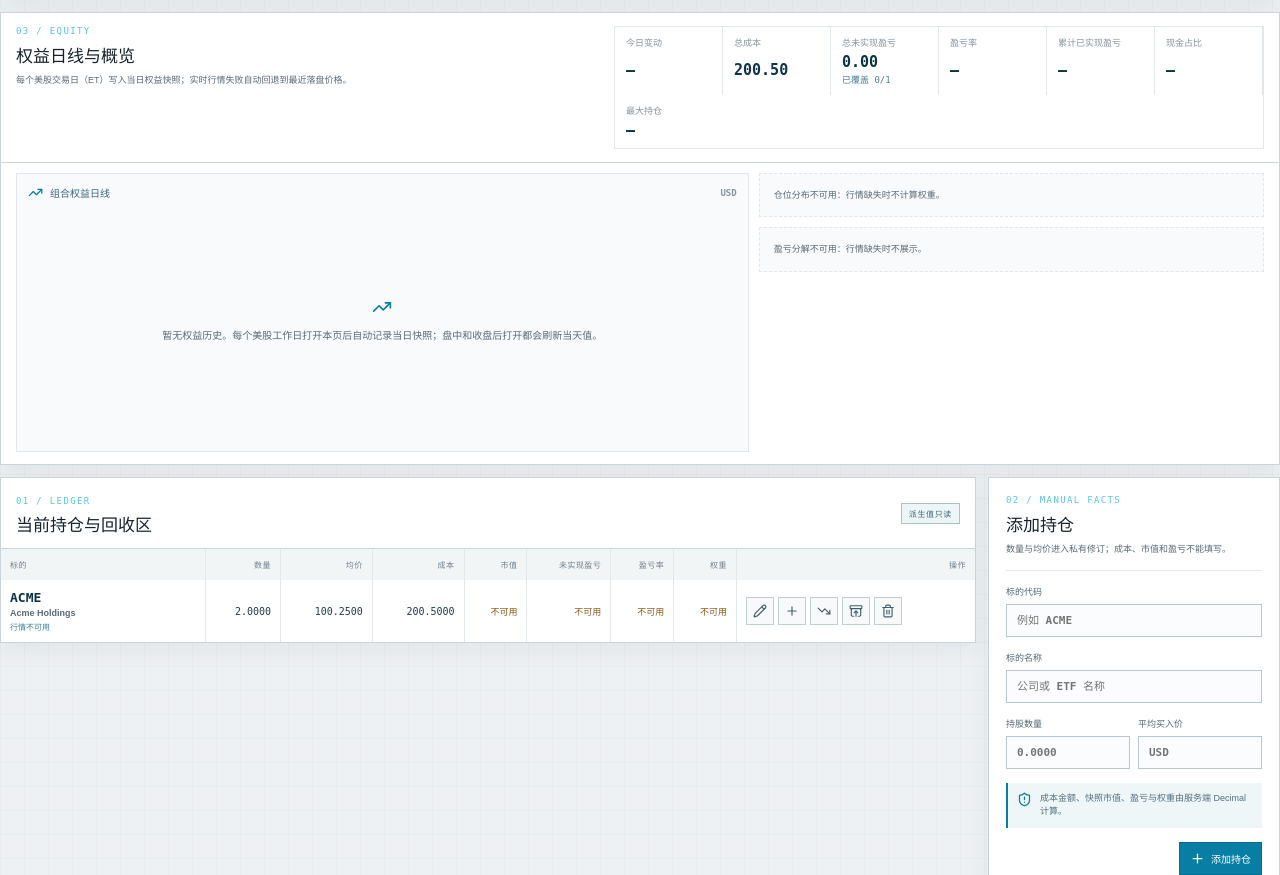
手工美股持仓工作台 › 行情不可用显示明确缺值，移出可恢复，永久删除必须二次 challenge
(page scrolled)
Click the button named "移出 ACME". click: click(856, 611)
box: [842, 597, 870, 625]
(page scrolled)
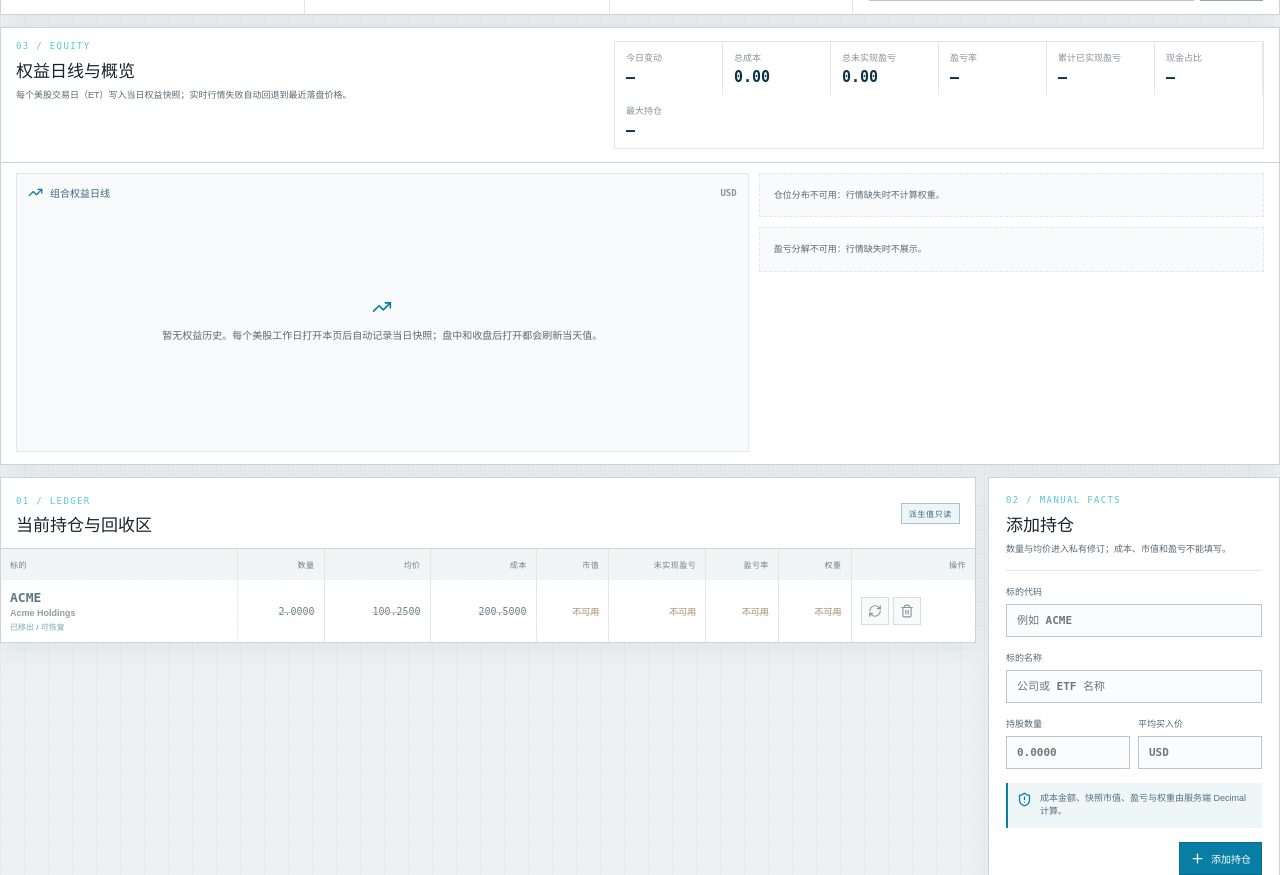
Now the button named "恢复 ACME" is shown, box [860, 597, 888, 625]
Click the button named "永久删除 ACME". click: click(906, 611)
box: [892, 597, 920, 625]
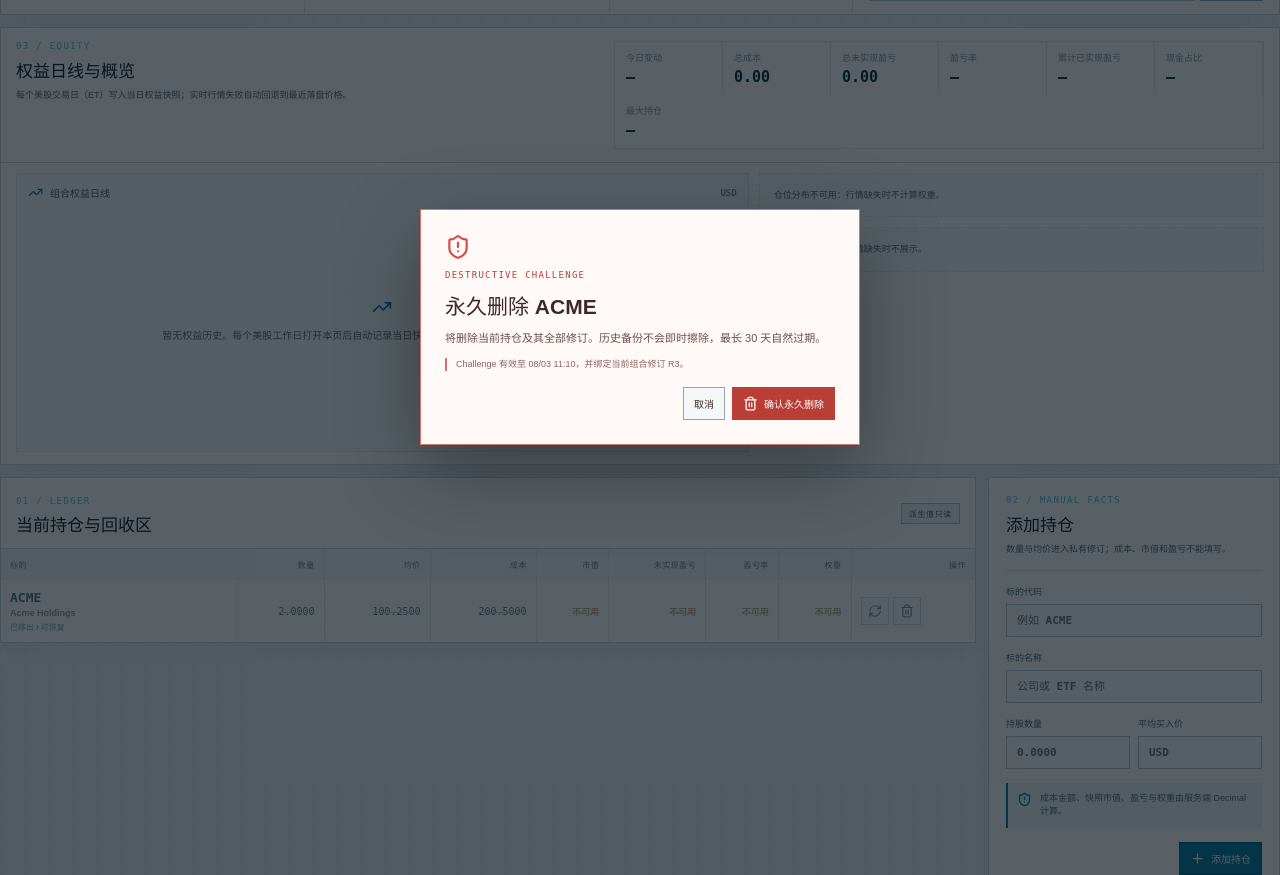
Now the dialog "永久删除 ACME" is shown, box [420, 209, 860, 445]
Click the button "确认永久删除". click: click(784, 404)
box: [732, 387, 835, 420]
(page scrolled)
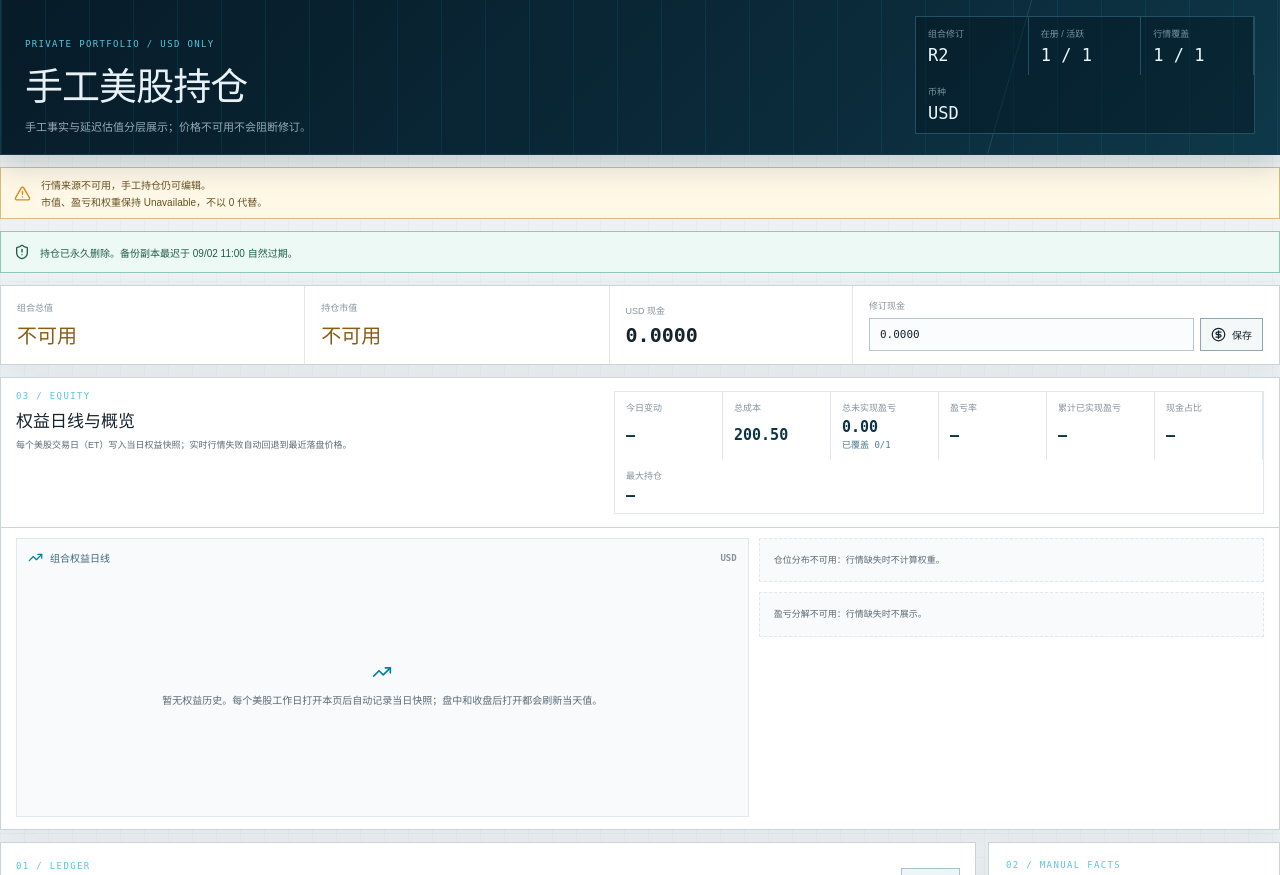
Now the text "持仓已永久删除。备份副本最迟于 09/02 11:00 自然过期。" is shown, box [40, 244, 298, 260]
